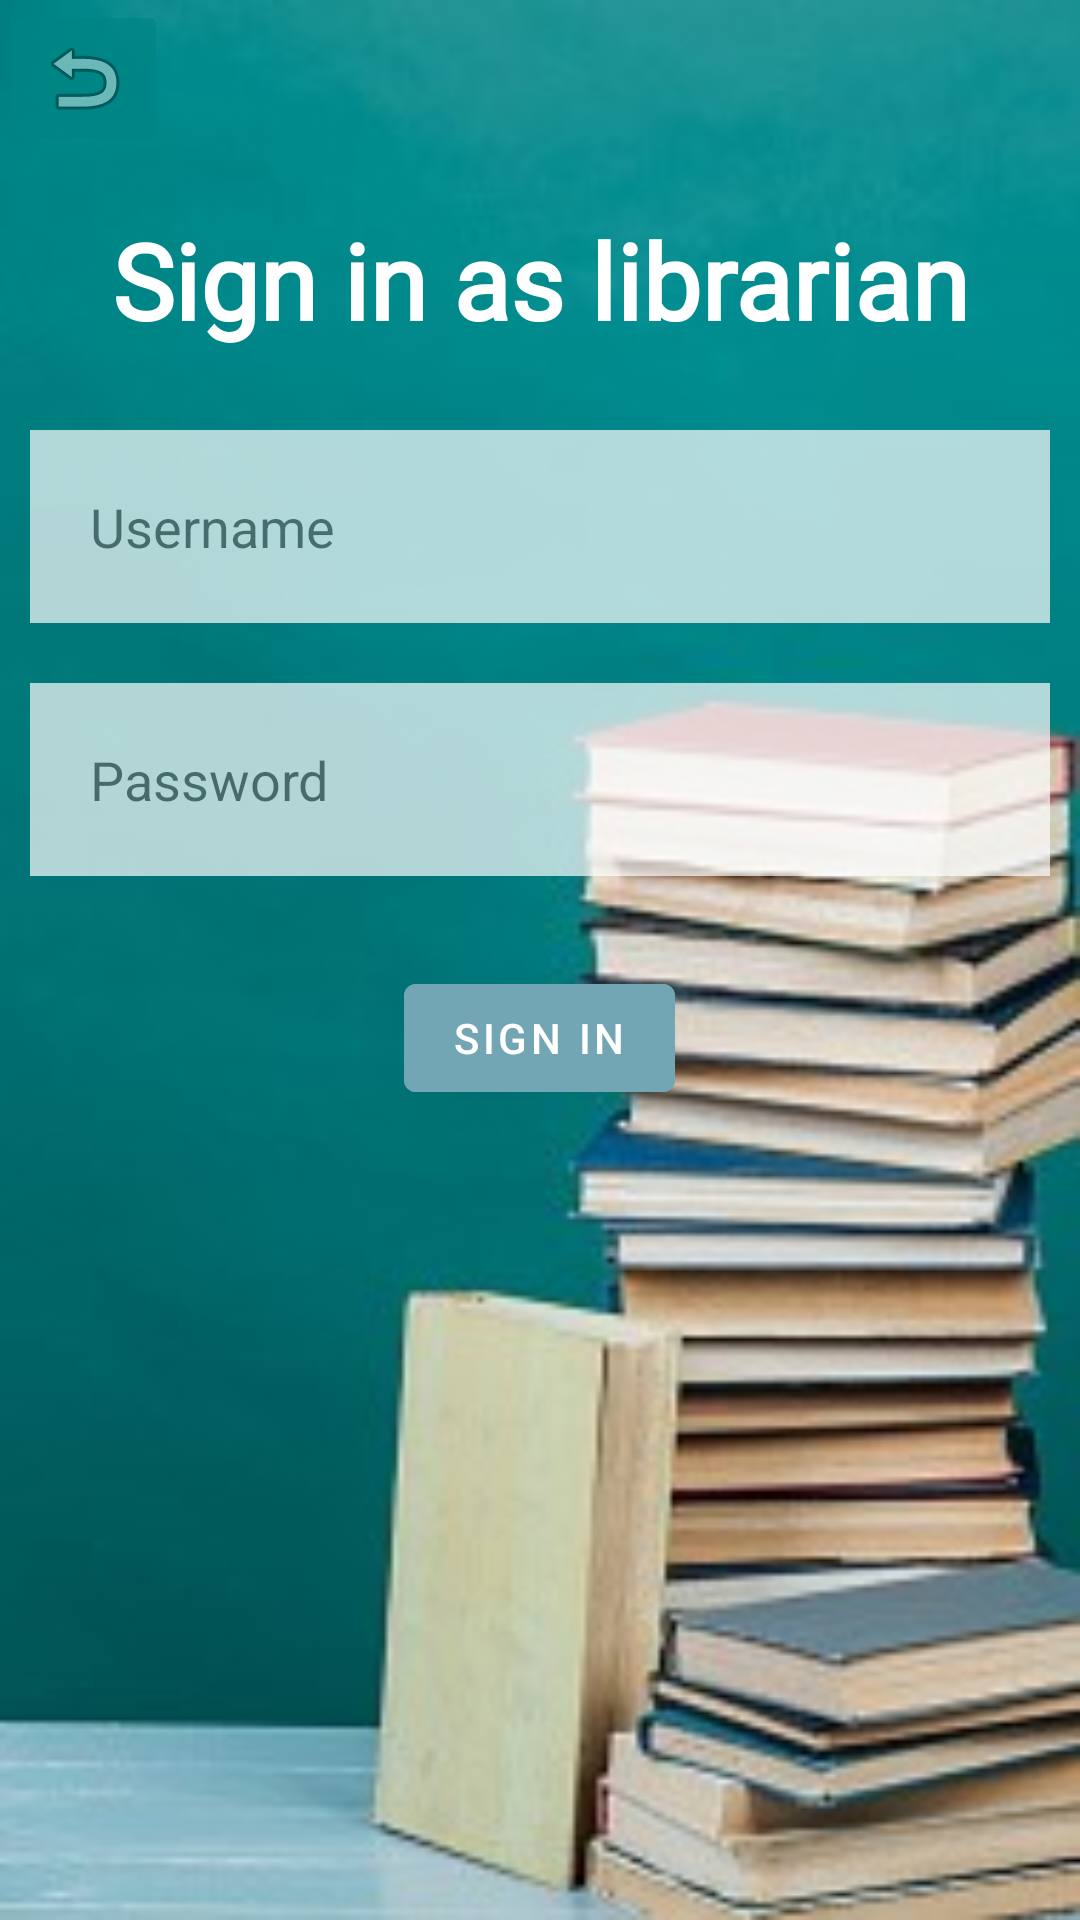

Screen size 1080 × 1920. Icon name, then its box in pixels as (x1, y1, x2, y2):
revert: (51, 48, 119, 110)
